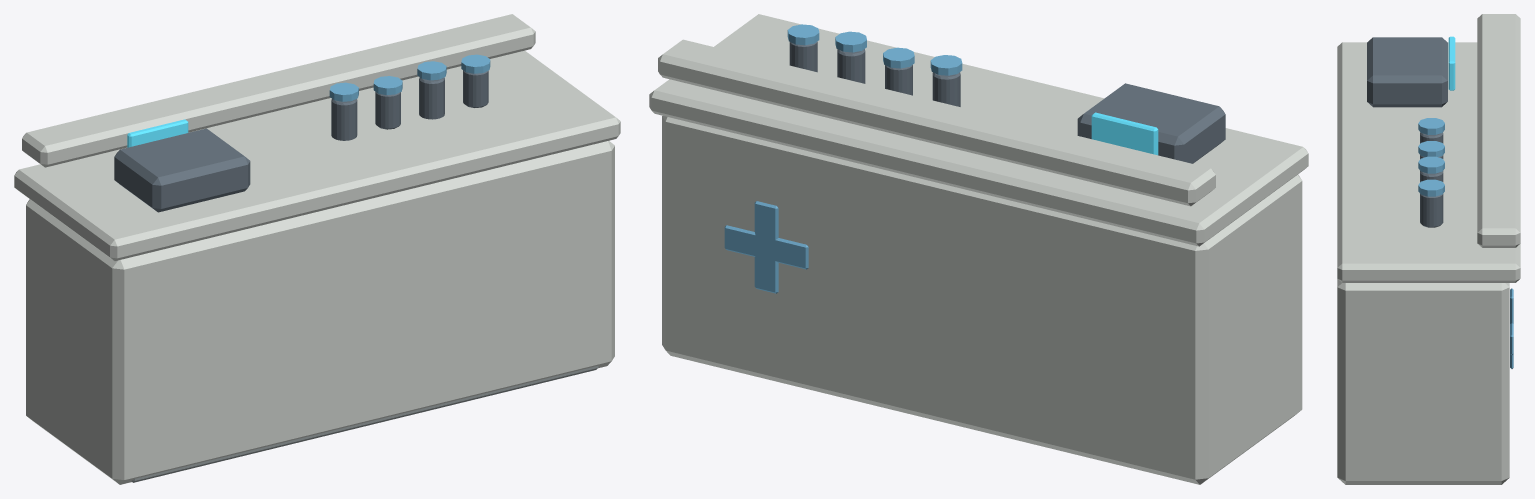
Rendered from pharmacy_counter.glb.
The picture shows the model from 3 angles, left to right: view 1: azimuth 30°, elevation 25°; view 2: azimuth 150°, elevation 25°; view 3: azimuth 270°, elevation 25°; orthographic projection. The views are drawn at different scales.
Visible parts, largest first — view 1: pharmacy_counter; view 2: pharmacy_counter; view 3: pharmacy_counter.
Part boxes in pixels (box(x1,y1,x2,y2)): pharmacy_counter: box(14, 14, 620, 484); pharmacy_counter: box(649, 14, 1308, 484); pharmacy_counter: box(1337, 14, 1520, 484).
Bounding box in the file's own units: 1.98 × 1.09 × 0.68.
